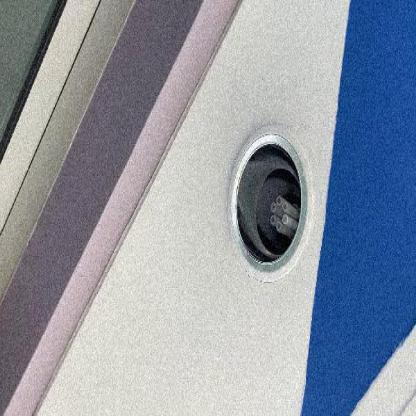light_off: (216, 91, 318, 295)
